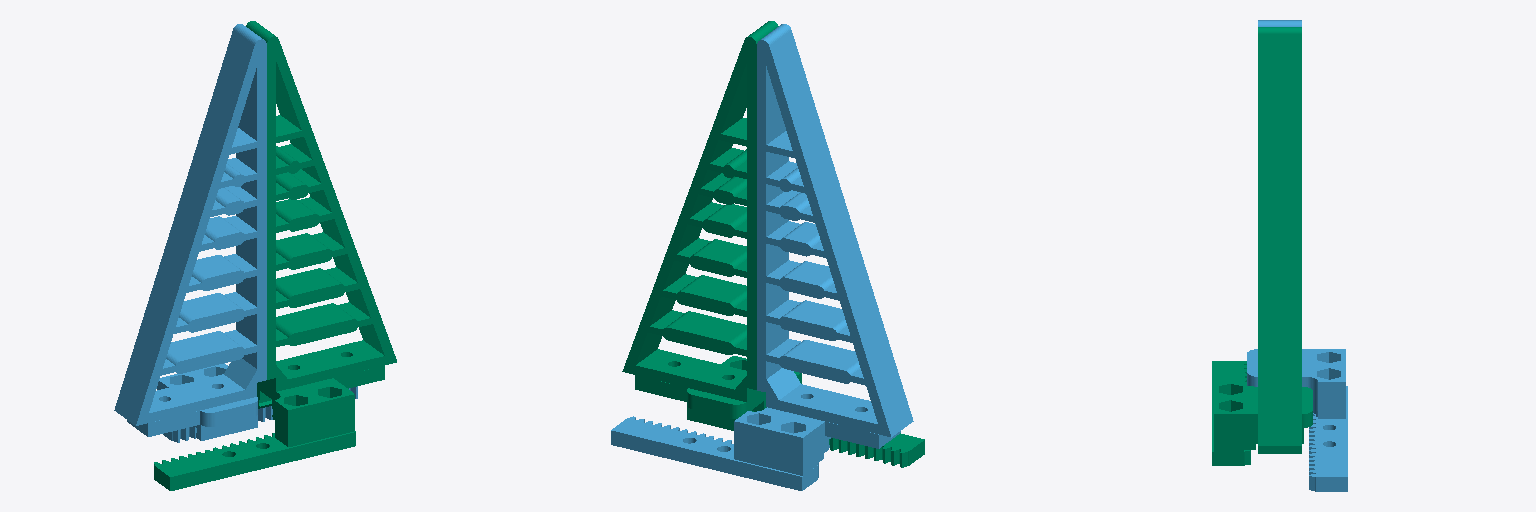
robot.urdf — gripper_model:
<?xml version="1.0"?>
<robot name="gripper_model">

  <!-- Base -->
  <link name="base_link">
    <visual>
      <geometry>
        <mesh filename="meshes/base.stl" scale="0.001 0.001 0.001"/>
      </geometry>
      <material name="gray">
        <color rgba="0.7 0.7 0.7 1"/>
      </material>
    </visual>
    <collision>
      <geometry>
        <mesh filename="meshes/base.stl" scale="0.001 0.001 0.001"/>
      </geometry>
    </collision>
  </link>
  
  <!-- Left finger -->
  <link name="left_finger">
    <visual>
      <geometry>
        <mesh filename="meshes/left_finger.stl" scale="0.001 0.001 0.001"/>
      </geometry>
    </visual>
    <collision>
      <geometry>
        <mesh filename="meshes/left_finger.stl" scale="0.001 0.001 0.001"/>
      </geometry>
    </collision>
  </link>
  <joint name="left_finger_joint" type="prismatic">
    <parent link="base_link"/>
    <child link="left_finger"/>
    <origin xyz="0 0 0" rpy="0 0 0"/>
    <axis xyz="1 0 0"/> <!-- move along X axis; adjust if needed -->
    <limit lower="0.0" upper="0.04" effort="120" velocity="0.1"/>
  </joint>

  <!-- Right finger -->
  <link name="right_finger">
    <visual>
      <geometry>
        <mesh filename="meshes/right_finger.stl" scale="0.001 0.001 0.001"/>
      </geometry>
    </visual>
    <collision>
      <geometry>
        <mesh filename="meshes/right_finger.stl" scale="0.001 0.001 0.001"/>
      </geometry>
    </collision>
  </link>
  <joint name="right_finger_joint" type="prismatic">
    <parent link="base_link"/>
    <child link="right_finger"/>
    <origin xyz="0 0 0" rpy="0 0 0"/>
    <axis xyz="-1 0 0"/> <!-- opposite direction to left finger -->
    <limit lower="0.0" upper="0.04" effort="120" velocity="0.1"/>
  </joint>

</robot>

--- Render facts (derived) ---
3 views of the same robot in one strip: view 1: azimuth 30°, elevation 25°; view 2: azimuth 150°, elevation 25°; view 3: azimuth 270°, elevation 25° (orthographic).
Robot: gripper_model — 3 links, 2 joints (2 prismatic); root link base_link; default pose: every joint at zero.
Links seen in each view (by area): view 1: left_finger, right_finger; view 2: left_finger, right_finger; view 3: right_finger, left_finger.
Link boxes in pixels (<box>): left_finger: <box>114,24,357,442</box>; right_finger: <box>154,21,396,490</box>; left_finger: <box>611,24,913,490</box>; right_finger: <box>622,21,924,467</box>; right_finger: <box>1212,27,1312,465</box>; left_finger: <box>1247,20,1347,491</box>.
Bounding box of the posed robot: 0.0775 × 0.0346 × 0.1153 m (x, y, z).
2 mesh visuals loaded from 3 distinct referenced files (2 binary STL); not drawn: 1 (reference not matched to a file when rendering).